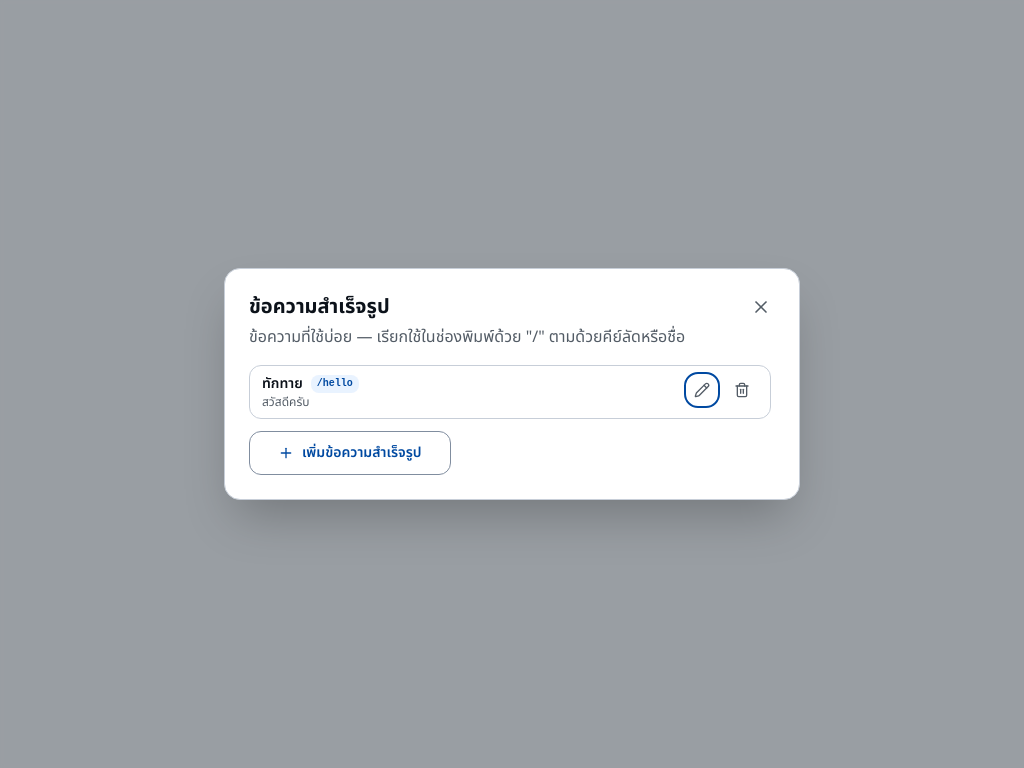
Test: CannedManageDialog › ลบล้มเหลวเห็น error ค้างนอกฟอร์ม
What coordinates should you click on to do the following:
click the button named "ลบ ทักทาย"
I would click on:
 (742, 390)
Its box is [726,374,758,406].
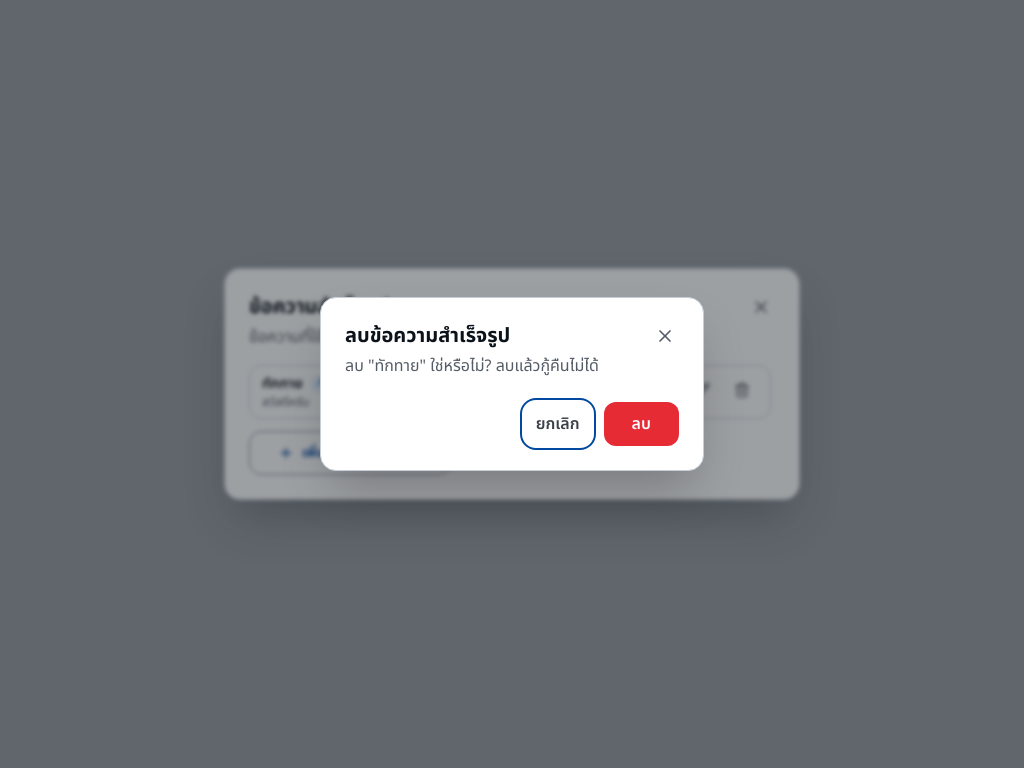
Result: the heading "ลบข้อความสำเร็จรูป" is shown at [345,321,510,351]
What coordinates should you click on to do the following:
click the button "ลบ"
I would click on:
 (641, 424)
Its box is [604,402,679,446].
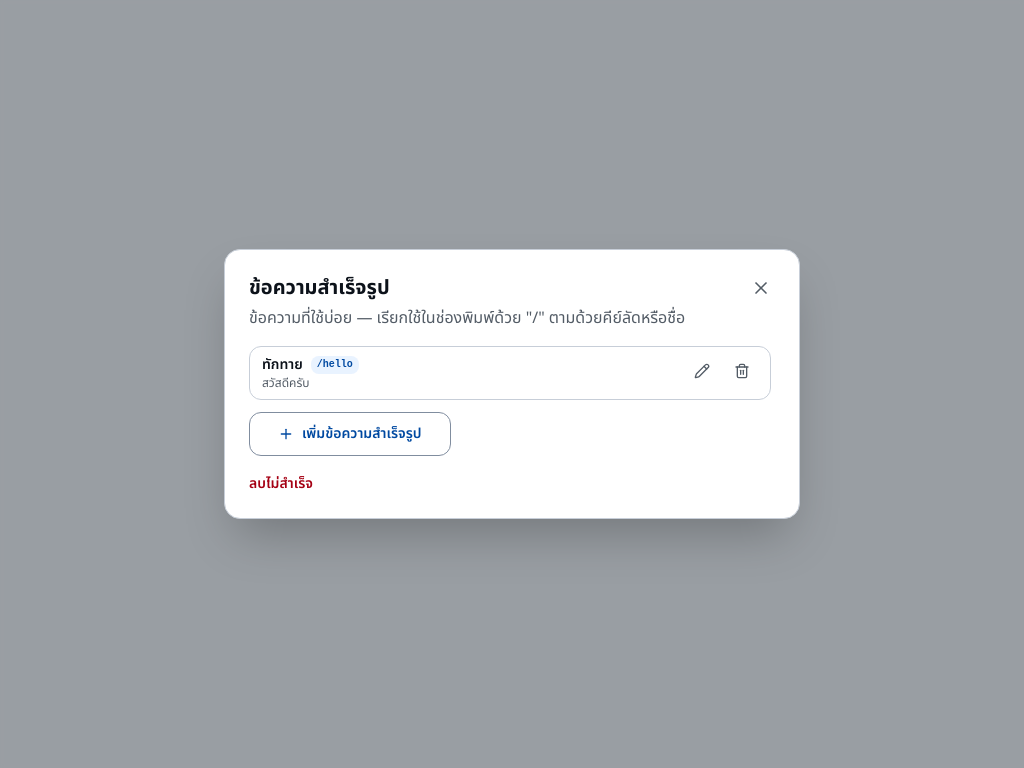
Result: the text "ลบไม่สำเร็จ" is shown at [249,473,313,494]
